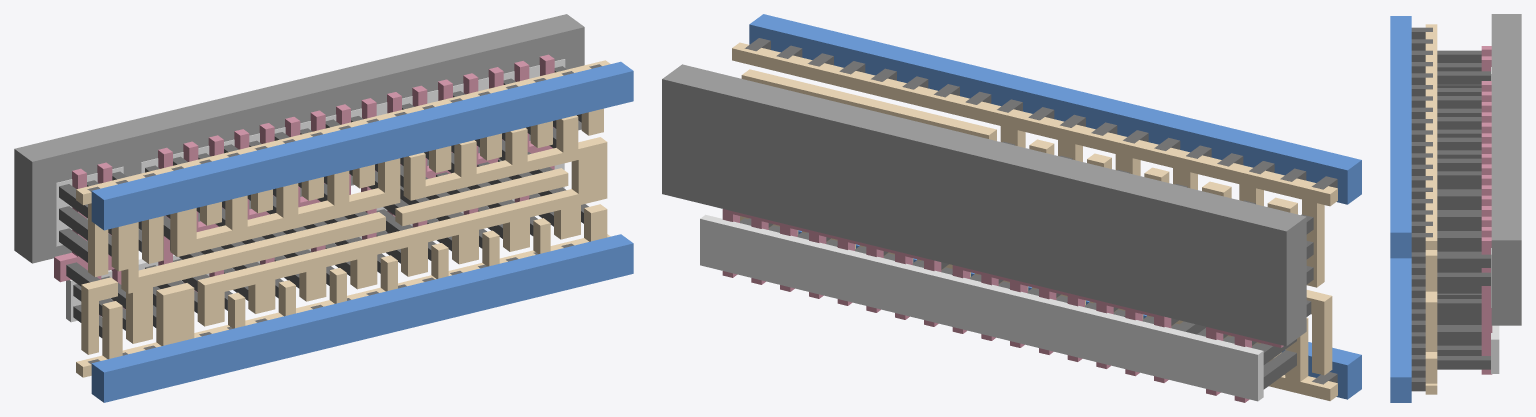
File: sky130_fd_sc_hd__lpflow_isobufsrc_8.gds.gltf
3 renders of one model, left to right at view 1: azimuth 30°, elevation 25°; view 2: azimuth 150°, elevation 25°; view 3: azimuth 270°, elevation 25°, orthographic. The views are drawn at different scales.
Parts seen in each view (by area): view 1: sky130_fd_sc_hd__lpflow_isobufsrc_8_li1, sky130_fd_sc_hd__lpflow_isobufsrc_8_met1, sky130_fd_sc_hd__lpflow_isobufsrc_8_nwell, sky130_fd_sc_hd__lpflow_isobufsrc_8_licon, sky130_fd_sc_hd__lpflow_isobufsrc_8_poly, sky130_fd_sc_hd__lpflow_isobufsrc_8_diff, sky130_fd_sc_hd__lpflow_isobufsrc_8_mcon; view 2: sky130_fd_sc_hd__lpflow_isobufsrc_8_nwell, sky130_fd_sc_hd__lpflow_isobufsrc_8_diff, sky130_fd_sc_hd__lpflow_isobufsrc_8_li1, sky130_fd_sc_hd__lpflow_isobufsrc_8_met1, sky130_fd_sc_hd__lpflow_isobufsrc_8_poly, sky130_fd_sc_hd__lpflow_isobufsrc_8_mcon, sky130_fd_sc_hd__lpflow_isobufsrc_8_licon; view 3: sky130_fd_sc_hd__lpflow_isobufsrc_8_licon, sky130_fd_sc_hd__lpflow_isobufsrc_8_nwell, sky130_fd_sc_hd__lpflow_isobufsrc_8_met1, sky130_fd_sc_hd__lpflow_isobufsrc_8_mcon, sky130_fd_sc_hd__lpflow_isobufsrc_8_li1, sky130_fd_sc_hd__lpflow_isobufsrc_8_poly, sky130_fd_sc_hd__lpflow_isobufsrc_8_diff.
Part boxes in pixels (left/top/right/bottom): sky130_fd_sc_hd__lpflow_isobufsrc_8_li1: left=76, top=60, right=610, bottom=377; sky130_fd_sc_hd__lpflow_isobufsrc_8_met1: left=91, top=61, right=633, bottom=402; sky130_fd_sc_hd__lpflow_isobufsrc_8_nwell: left=14, top=14, right=584, bottom=263; sky130_fd_sc_hd__lpflow_isobufsrc_8_licon: left=59, top=66, right=588, bottom=337; sky130_fd_sc_hd__lpflow_isobufsrc_8_poly: left=54, top=54, right=554, bottom=316; sky130_fd_sc_hd__lpflow_isobufsrc_8_diff: left=56, top=59, right=565, bottom=322; sky130_fd_sc_hd__lpflow_isobufsrc_8_mcon: left=87, top=64, right=601, bottom=364; sky130_fd_sc_hd__lpflow_isobufsrc_8_nwell: left=662, top=64, right=1306, bottom=346; sky130_fd_sc_hd__lpflow_isobufsrc_8_diff: left=700, top=214, right=1263, bottom=401; sky130_fd_sc_hd__lpflow_isobufsrc_8_li1: left=732, top=42, right=1337, bottom=400; sky130_fd_sc_hd__lpflow_isobufsrc_8_met1: left=749, top=14, right=1361, bottom=399; sky130_fd_sc_hd__lpflow_isobufsrc_8_poly: left=722, top=209, right=1283, bottom=402; sky130_fd_sc_hd__lpflow_isobufsrc_8_mcon: left=745, top=38, right=1337, bottom=384; sky130_fd_sc_hd__lpflow_isobufsrc_8_licon: left=740, top=141, right=1313, bottom=389; sky130_fd_sc_hd__lpflow_isobufsrc_8_licon: left=1437, top=50, right=1490, bottom=369; sky130_fd_sc_hd__lpflow_isobufsrc_8_nwell: left=1491, top=14, right=1521, bottom=325; sky130_fd_sc_hd__lpflow_isobufsrc_8_met1: left=1390, top=16, right=1411, bottom=402; sky130_fd_sc_hd__lpflow_isobufsrc_8_mcon: left=1411, top=27, right=1432, bottom=391; sky130_fd_sc_hd__lpflow_isobufsrc_8_li1: left=1425, top=24, right=1437, bottom=394; sky130_fd_sc_hd__lpflow_isobufsrc_8_poly: left=1481, top=46, right=1492, bottom=374; sky130_fd_sc_hd__lpflow_isobufsrc_8_diff: left=1491, top=67, right=1499, bottom=373.
Size of the model in its own units: 9.12 by 3.2 by 2.24.
